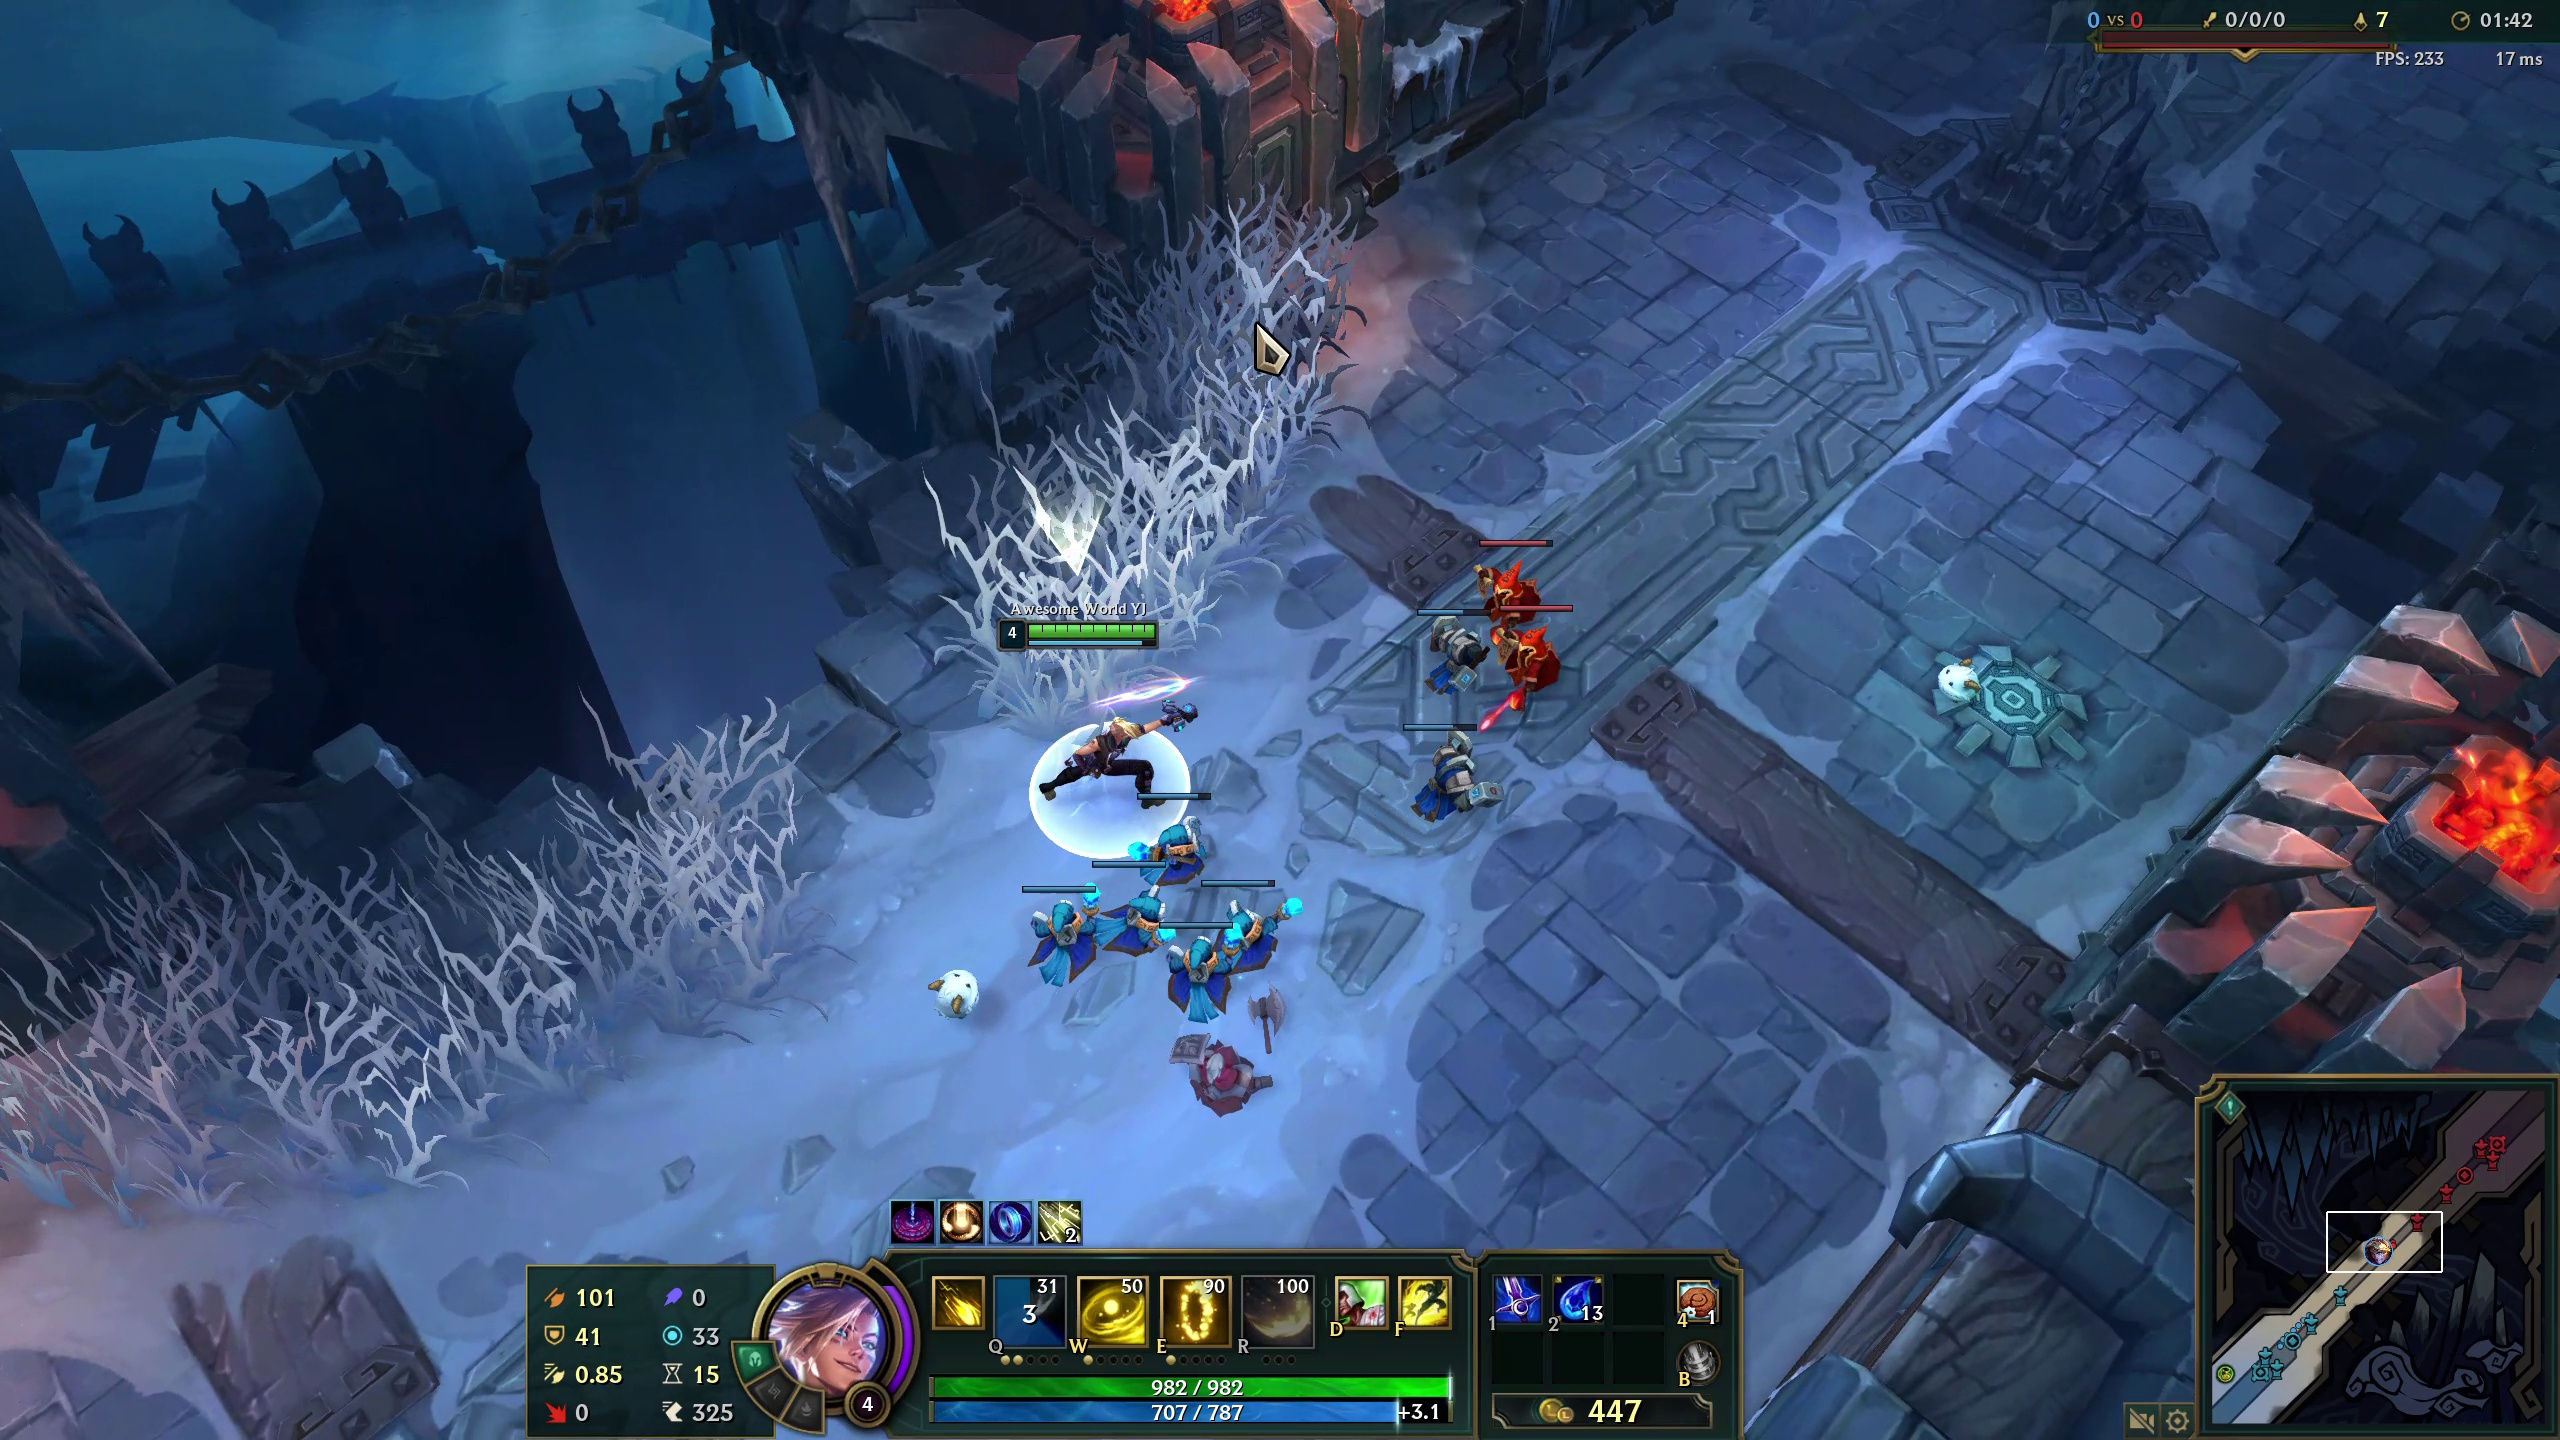EZ: (1029, 608, 1185, 835)
EnemyMinion: (1473, 506, 1574, 619), (1487, 594, 1586, 707)
Glass: (58, 905, 420, 1136), (1071, 311, 1269, 619)
MyMinion: (1139, 905, 1252, 1023), (992, 870, 1102, 990), (1080, 851, 1190, 971), (1196, 862, 1306, 981), (1384, 717, 1495, 837), (1400, 580, 1510, 700), (1136, 782, 1247, 900)
Turret: (1927, 53, 2184, 280)
